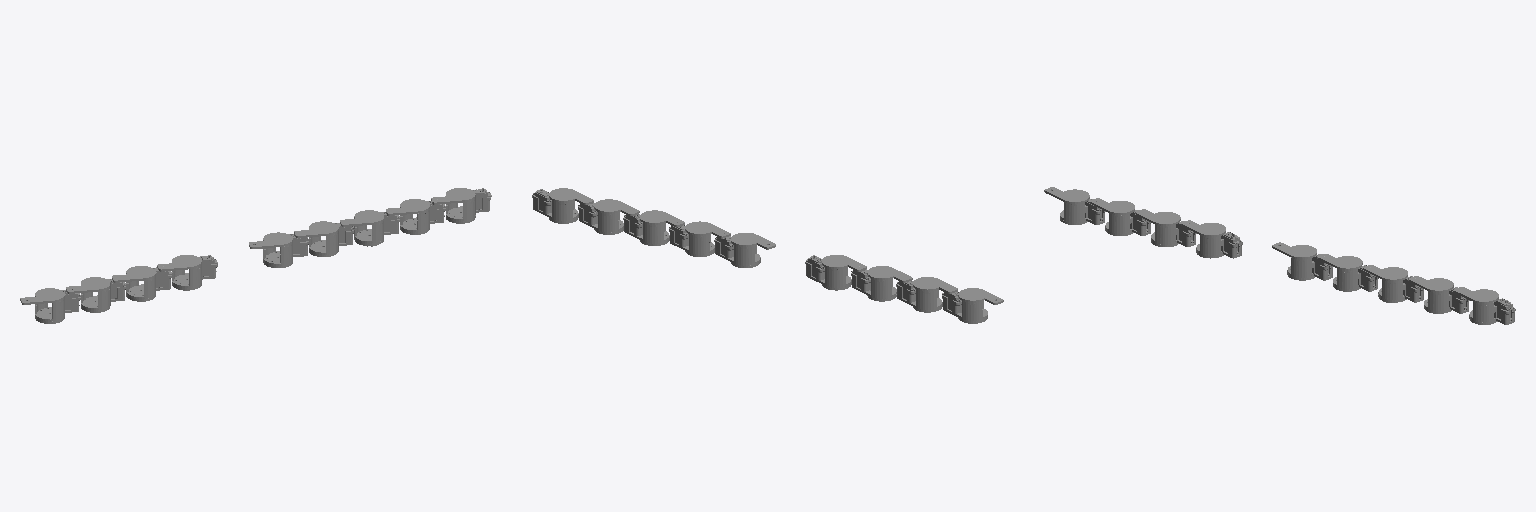
The robot description file, URDF, robot "cobra":
<?xml version="1.0" encoding="utf-8"?>
<!-- This URDF was automatically created by SolidWorks to URDF Exporter! Originally created by [author] ([email redacted]) 
     Commit Version: 1.6.0-4-g7f85cfe  Build Version: 1.6.7995.38578
     For more information, please see http://wiki.ros.org/sw_urdf_exporter -->
<!-- 
  Modificações foram feitas nessa descrição a fim de simular o robô no ambiente de simulação Gazebo
  Autor: [author]
  email: [email redacted]
-->
<robot
  name="cobra">
  <gazebo>
    <plugin name="gazebo_ros_control" filename="libgazebo_ros_control.so">
      <robotNamespace>/cobra</robotNamespace>
    </plugin>
  </gazebo>
  <link name = "dummy"/>
  <link
    name="modulo1">
    <inertial>
      <origin
        xyz="-0.19548 -0.0079371 -0.092787"
        rpy="0 0 0" />
      <mass
        value="0.062449" />
      <inertia
        ixx="4.2331E-05"
        ixy="8.2349E-07"
        ixz="-3.8461E-06"
        iyy="9.0357E-05"
        iyz="-9.8697E-08"
        izz="7.2959E-05" />
    </inertial>
    <visual>
      <origin
        xyz="0 0 0"
        rpy="0 0 0" />
      <geometry>
        <mesh
          filename="package://cobra/meshes/base_link.STL" />
      </geometry>
      <material
        name="">
        <color
          rgba="0.62745 0.62745 0.62745 1" />
      </material>
    </visual>
    <collision>
      <origin
        xyz="0 0 0"
        rpy="0 0 0" />
      <geometry>
        <mesh
          filename="package://cobra/meshes/base_link.STL" />
      </geometry>
    </collision>
  </link>
  <gazebo reference="modulo1">
    <mu1>0.1</mu1>
    <mu2>0.1</mu2>
    <fdir1>1 0 0</fdir1> 
  </gazebo>
  <joint name = "dummy_joint" type = "fixed">
    <parent link="dummy"/>
    <child link="modulo1"/>
  </joint>
  <link
    name="modulo2">
    <inertial>
      <origin
        xyz="0.073686 -0.029721 -0.0008313"
        rpy="0 0 0" />
      <mass
        value="0.062449" />
      <inertia
        ixx="4.2331E-05"
        ixy="8.2349E-07"
        ixz="-3.8461E-06"
        iyy="9.0357E-05"
        iyz="-9.8697E-08"
        izz="7.2959E-05" />
    </inertial>
    <visual>
      <origin
        xyz="0 0 0"
        rpy="0 0 0" />
      <geometry>
        <mesh
          filename="package://cobra/meshes/modulo2.STL" />
      </geometry>
      <material
        name="">
        <color
          rgba="0.62745 0.62745 0.62745 1" />
      </material>
    </visual>
    <collision>
      <origin
        xyz="0 0 0"
        rpy="0 0 0" />
      <geometry>
        <mesh
          filename="package://cobra/meshes/modulo2.STL" />
      </geometry>
    </collision>
  </link>
  <gazebo reference="modulo2">
    <mu1>0.1</mu1>
    <mu2>0.1</mu2>
    <fdir1>1 0 0</fdir1> 
  </gazebo>
  <joint
    name="joint1"
    type="revolute">
    <origin
      xyz="-0.15473 0.091996 0.021784"
      rpy="1.5708 0 0" />
    <parent
      link="modulo1" />
    <child
      link="modulo2" />
    <axis
      xyz="0 1 0" />
    <limit
      lower="-2.0"
      upper="2.0"
      effort="10.0"
      velocity="0.5" />
    <physics>
      <ode cfm_damping = "true">
        <limit cfm = "1.0"/>
        <suspension cfm="1.0"/>
      </ode>
    </physics>
  </joint>
  <transmission name="trans1">
    <type>transmission_interface/SimpleTransmission</type>
    <joint name="joint1">
      <hardwareInterface>hardware_interface/EffortJointInterface</hardwareInterface>
    </joint>
    <actuator name="motor1">
      <hardwareInterface>hardware_interface/EffortJointInterface</hardwareInterface>
      <mechanicalReduction>1</mechanicalReduction>
    </actuator>
  </transmission>
  <link
    name="modulo3">
    <inertial>
      <origin
        xyz="0.073686 -0.029721 -0.0008313"
        rpy="0 0 0" />
      <mass
        value="0.062449" />
      <inertia
        ixx="4.2331E-05"
        ixy="8.2349E-07"
        ixz="-3.8461E-06"
        iyy="9.0357E-05"
        iyz="-9.8697E-08"
        izz="7.2959E-05" />
    </inertial>
    <visual>
      <origin
        xyz="0 0 0"
        rpy="0 0 0" />
      <geometry>
        <mesh
          filename="package://cobra/meshes/modulo3.STL" />
      </geometry>
      <material
        name="">
        <color
          rgba="0.62745 0.62745 0.62745 1" />
      </material>
    </visual>
    <collision>
      <origin
        xyz="0 0 0"
        rpy="0 0 0" />
      <geometry>
        <mesh
          filename="package://cobra/meshes/modulo3.STL" />
      </geometry>
    </collision>
  </link>
  <gazebo reference="modulo3">
    <mu1>0.1</mu1>
    <mu2>0.1</mu2>
    <fdir1>1 0 0</fdir1> 
  </gazebo>
  <joint
    name="joint2"
    type="revolute">
    <origin
      xyz="0.11444 0 -4.0212E-05"
      rpy="0 0 0" />
    <parent
      link="modulo2" />
    <child
      link="modulo3" />
    <axis
      xyz="0 1 0" />
    <limit
      lower="-2.0"
      upper="2.0"
      effort="100000000000.0"
      velocity="6.28" />
    <physics>
      <ode cfm_damping = "true">
        <limit cfm = "1.0"/>
        <suspension cfm="1.0"/>
      </ode>
    </physics>
  </joint>
  <transmission name="trans2">
    <type>transmission_interface/SimpleTransmission</type>
    <joint name="joint2">
      <hardwareInterface>hardware_interface/EffortJointInterface</hardwareInterface>
    </joint>
    <actuator name="motor2">
      <hardwareInterface>hardware_interface/EffortJointInterface</hardwareInterface>
      <mechanicalReduction>1</mechanicalReduction>
    </actuator>
  </transmission>
  <link
    name="modulo4">
    <inertial>
      <origin
        xyz="0.0736864302969557 -0.0297211972454861 -0.000831298567806088"
        rpy="0 0 0" />
      <mass
        value="0.0624486089384005" />
      <inertia
        ixx="4.23306741017875E-05"
        ixy="8.23488383173284E-07"
        ixz="-3.84610240874935E-06"
        iyy="9.03567329613313E-05"
        iyz="-9.86970187562682E-08"
        izz="7.29593550442413E-05" />
    </inertial>
    <visual>
      <origin
        xyz="0 0 0"
        rpy="0 0 0" />
      <geometry>
        <mesh
          filename="package://cobra/meshes/modulo4.STL" />
      </geometry>
      <material
        name="">
        <color
          rgba="0.627450980392157 0.627450980392157 0.627450980392157 1" />
      </material>
    </visual>
    <collision>
      <origin
        xyz="0 0 0"
        rpy="0 0 0" />
      <geometry>
        <mesh
          filename="package://cobra/meshes/modulo4.STL" />
      </geometry>
    </collision>
  </link>
  <gazebo reference="modulo4">
    <mu1>0.1</mu1>
    <mu2>0.1</mu2>
    <fdir1>1 0 0</fdir1> 
  </gazebo>
  <joint
    name="joint3"
    type="revolute">
    <origin
      xyz="0.11444 0 -4.0212E-05"
      rpy="0 0 0" />
    <parent
      link="modulo3" />
    <child
      link="modulo4" />
    <axis
      xyz="0 1 0" />
    <limit
      lower="-2.0"
      upper="2.0"
      effort="100000000000.0"
      velocity="6.28" />
    <physics>
      <ode cfm_damping = "true">
        <limit cfm = "1.0"/>
        <suspension cfm="1.0"/>
      </ode>
    </physics>
  </joint>
  <transmission name="trans3">
    <type>transmission_interface/SimpleTransmission</type>
    <joint name="joint3">
      <hardwareInterface>hardware_interface/EffortJointInterface</hardwareInterface>
    </joint>
    <actuator name="motor3">
      <hardwareInterface>hardware_interface/EffortJointInterface</hardwareInterface>
      <mechanicalReduction>1</mechanicalReduction>
    </actuator>
  </transmission>
  <link
    name="modulo5">
    <inertial>
      <origin
        xyz="0.0736864302969558 -0.0297211972454855 -0.000831298567805991"
        rpy="0 0 0" />
      <mass
        value="0.0624486089384005" />
      <inertia
        ixx="4.23306741017875E-05"
        ixy="8.23488383173303E-07"
        ixz="-3.84610240874932E-06"
        iyy="9.03567329613312E-05"
        iyz="-9.86970187568371E-08"
        izz="7.2959355044241E-05" />
    </inertial>
    <visual>
      <origin
        xyz="0 0 0"
        rpy="0 0 0" />
      <geometry>
        <mesh
          filename="package://cobra/meshes/modulo5.STL" />
      </geometry>
      <material
        name="">
        <color
          rgba="0.627450980392157 0.627450980392157 0.627450980392157 1" />
      </material>
    </visual>
    <collision>
      <origin
        xyz="0 0 0"
        rpy="0 0 0" />
      <geometry>
        <mesh
          filename="package://cobra/meshes/modulo5.STL" />
      </geometry>
    </collision>
  </link>
  <gazebo reference="modulo5">
    <mu1>0.1</mu1>
    <mu2>0.1</mu2>
    <fdir1>1 0 0</fdir1> 
  </gazebo>
  <joint
    name="joint4"
    type="revolute">
    <origin
      xyz="0.11444 0 -4.0212E-05"
      rpy="0 0 0" />
    <parent
      link="modulo4" />
    <child
      link="modulo5" />
    <axis
      xyz="0 1 0" />
    <limit
      lower="-2.0"
      upper="2.0"
      effort="100000000000.0"
      velocity="6.28" />
    <physics>
      <ode cfm_damping = "true">
        <limit cfm = "1.0"/>
        <suspension cfm="1.0"/>
      </ode>
    </physics>
  </joint>
  <transmission name="trans4">
    <type>transmission_interface/SimpleTransmission</type>
    <joint name="joint4">
      <hardwareInterface>hardware_interface/EffortJointInterface</hardwareInterface>
    </joint>
    <actuator name="motor4">
      <hardwareInterface>hardware_interface/EffortJointInterface</hardwareInterface>
      <mechanicalReduction>1</mechanicalReduction>
    </actuator>
  </transmission>
  <link
    name="modulo6">
    <inertial>
      <origin
        xyz="0.073686 -0.029721 -0.0008313"
        rpy="0 0 0" />
      <mass
        value="0.062449" />
      <inertia
        ixx="4.2331E-05"
        ixy="8.2349E-07"
        ixz="-3.8461E-06"
        iyy="9.0357E-05"
        iyz="-9.8697E-08"
        izz="7.2959E-05" />
    </inertial>
    <visual>
      <origin
        xyz="0 0 0"
        rpy="0 0 0" />
      <geometry>
        <mesh
          filename="package://cobra/meshes/modulo6.STL" />
      </geometry>
      <material
        name="">
        <color
          rgba="0.62745 0.62745 0.62745 1" />
      </material>
    </visual>
    <collision>
      <origin
        xyz="0 0 0"
        rpy="0 0 0" />
      <geometry>
        <mesh
          filename="package://cobra/meshes/modulo6.STL" />
      </geometry>
    </collision>
  </link>
  <gazebo reference="modulo6">
    <mu1>0.1</mu1>
    <mu2>0.1</mu2>
    <fdir1>1 0 0</fdir1> 
  </gazebo>
  <joint
    name="joint5"
    type="revolute">
    <origin
      xyz="0.11444 0 -4.0212E-05"
      rpy="0 0 0" />
    <parent
      link="modulo5" />
    <child
      link="modulo6" />
    <axis
      xyz="0 1 0" />
    <limit
      lower="-2.0"
      upper="2.0"
      effort="100000000000.0"
      velocity="6.28" />
    <physics>
      <ode cfm_damping = "true">
        <limit cfm = "1.0"/>
        <suspension cfm="1.0"/>
      </ode>
    </physics>
  </joint>
  <transmission name="trans5">
    <type>transmission_interface/SimpleTransmission</type>
    <joint name="joint5">
      <hardwareInterface>hardware_interface/EffortJointInterface</hardwareInterface>
    </joint>
    <actuator name="motor5">
      <hardwareInterface>hardware_interface/EffortJointInterface</hardwareInterface>
      <mechanicalReduction>1</mechanicalReduction>
    </actuator>
  </transmission>
  <link
    name="modulo7">
    <inertial>
      <origin
        xyz="0.0736864303147165 -0.0297211972561647 -0.000831298559470214"
        rpy="0 0 0" />
      <mass
        value="0.0624486089464186" />
      <inertia
        ixx="4.23306741091947E-05"
        ixy="8.23488390584288E-07"
        ixz="-3.84610242802216E-06"
        iyy="9.03567330041933E-05"
        iyz="-9.86970132555384E-08"
        izz="7.29593550761642E-05" />
    </inertial>
    <visual>
      <origin
        xyz="0 0 0"
        rpy="0 0 0" />
      <geometry>
        <mesh
          filename="package://cobra/meshes/modulo7.STL" />
      </geometry>
      <material
        name="">
        <color
          rgba="0.627450980392157 0.627450980392157 0.627450980392157 1" />
      </material>
    </visual>
    <collision>
      <origin
        xyz="0 0 0"
        rpy="0 0 0" />
      <geometry>
        <mesh
          filename="package://cobra/meshes/modulo7.STL" />
      </geometry>
    </collision>
  </link>
  <gazebo reference="modulo7">
    <mu1>0.1</mu1>
    <mu2>0.1</mu2>
    <fdir1>1 0 0</fdir1> 
  </gazebo>
  <joint
    name="joint6"
    type="revolute">
    <origin
      xyz="0.11444 0 -4.0212E-05"
      rpy="0 0 0" />
    <parent
      link="modulo6" />
    <child
      link="modulo7" />
    <axis
      xyz="0 1 0" />
    <limit
      lower="-2.0"
      upper="2.0"
      effort="100000000000.0"
      velocity="6.28" />
    <physics>
      <ode cfm_damping = "true">
        <limit cfm = "1.0"/>
        <suspension cfm="1.0"/>
      </ode>
    </physics>
  </joint>
  <transmission name="trans6">
    <type>transmission_interface/SimpleTransmission</type>
    <joint name="joint6">
      <hardwareInterface>hardware_interface/EffortJointInterface</hardwareInterface>
    </joint>
    <actuator name="motor6">
      <hardwareInterface>hardware_interface/EffortJointInterface</hardwareInterface>
      <mechanicalReduction>1</mechanicalReduction>
    </actuator>
  </transmission>
  <link
    name="modulo8">
    <inertial>
      <origin
        xyz="0.073686430296956 -0.0297211972454852 -0.000831298567805852"
        rpy="0 0 0" />
      <mass
        value="0.0624486089384004" />
      <inertia
        ixx="4.23306741017869E-05"
        ixy="8.23488383172666E-07"
        ixz="-3.84610240874893E-06"
        iyy="9.03567329613307E-05"
        iyz="-9.86970187562574E-08"
        izz="7.29593550442411E-05" />
    </inertial>
    <visual>
      <origin
        xyz="0 0 0"
        rpy="0 0 0" />
      <geometry>
        <mesh
          filename="package://cobra/meshes/modulo8.STL" />
      </geometry>
      <material
        name="">
        <color
          rgba="0.627450980392157 0.627450980392157 0.627450980392157 1" />
      </material>
    </visual>
    <collision>
      <origin
        xyz="0 0 0"
        rpy="0 0 0" />
      <geometry>
        <mesh
          filename="package://cobra/meshes/modulo8.STL" />
      </geometry>
    </collision>
  </link>
  <gazebo reference="modulo8">
    <mu1>0.1</mu1>
    <mu2>0.1</mu2>
    <fdir1>1 0 0</fdir1> 
  </gazebo>
  <joint
    name="joint7"
    type="revolute">
    <origin
      xyz="0.11444 0 -4.0212E-05"
      rpy="0 0 0" />
    <parent
      link="modulo7" />
    <child
      link="modulo8" />
    <axis
      xyz="0 1 0" />
    <limit
      lower="-2.0"
      upper="2.0"
      effort="100000000000.0"
      velocity="6.28" />
    <physics>
      <ode cfm_damping = "true">
        <limit cfm = "1.0"/>
        <suspension cfm="1.0"/>
      </ode>
    </physics>
  </joint>
  <transmission name="trans7">
    <type>transmission_interface/SimpleTransmission</type>
    <joint name="joint7">
      <hardwareInterface>hardware_interface/EffortJointInterface</hardwareInterface>
    </joint>
    <actuator name="motor7">
      <hardwareInterface>hardware_interface/EffortJointInterface</hardwareInterface>
      <mechanicalReduction>1</mechanicalReduction>
    </actuator>
  </transmission>
  <link
    name="modulo9">
    <inertial>
      <origin
        xyz="0.073686 -0.029721 -0.0008313"
        rpy="0 0 0" />
      <mass
        value="0.062449" />
      <inertia
        ixx="4.2331E-05"
        ixy="8.2349E-07"
        ixz="-3.8461E-06"
        iyy="9.0357E-05"
        iyz="-9.8697E-08"
        izz="7.2959E-05" />
    </inertial>
    <visual>
      <origin
        xyz="0 0 0"
        rpy="0 0 0" />
      <geometry>
        <mesh
          filename="package://cobra/meshes/modulo9.STL" />
      </geometry>
      <material
        name="">
        <color
          rgba="0.62745 0.62745 0.62745 1" />
      </material>
    </visual>
    <collision>
      <origin
        xyz="0 0 0"
        rpy="0 0 0" />
      <geometry>
        <mesh
          filename="package://cobra/meshes/modulo9.STL" />
      </geometry>
    </collision>
  </link>
  <gazebo reference="modulo9">
    <mu1>0.1</mu1>
    <mu2>0.1</mu2>
    <fdir1>1 0 0</fdir1> 
  </gazebo>
  <joint
    name="joint8"
    type="revolute">
    <origin
      xyz="0.11444 0 -4.0212E-05"
      rpy="0 0 0" />
    <parent
      link="modulo8" />
    <child
      link="modulo9" />
    <axis
      xyz="0 1 0" />
    <limit
      lower="-2.0"
      upper="2.0"
      effort="100000000000.0"
      velocity="6.28" />
    <physics>
      <ode cfm_damping = "true">
        <limit cfm = "1.0"/>
        <suspension cfm="1.0"/>
      </ode>
    </physics>
  </joint>
  <transmission name="trans8">
    <type>transmission_interface/SimpleTransmission</type>
    <joint name="joint8">
      <hardwareInterface>hardware_interface/EffortJointInterface</hardwareInterface>
    </joint>
    <actuator name="motor8">
      <hardwareInterface>hardware_interface/EffortJointInterface</hardwareInterface>
      <mechanicalReduction>1</mechanicalReduction>
    </actuator>
  </transmission>
  <link
    name="modulo10">
    <inertial>
      <origin
        xyz="0.073686 -0.029721 -0.0008313"
        rpy="0 0 0" />
      <mass
        value="0.062449" />
      <inertia
        ixx="4.2331E-05"
        ixy="8.2349E-07"
        ixz="-3.8461E-06"
        iyy="9.0357E-05"
        iyz="-9.8697E-08"
        izz="7.2959E-05" />
    </inertial>
    <visual>
      <origin
        xyz="0 0 0"
        rpy="0 0 0" />
      <geometry>
        <mesh
          filename="package://cobra/meshes/modulo10.STL" />
      </geometry>
      <material
        name="">
        <color
          rgba="0.62745 0.62745 0.62745 1" />
      </material>
    </visual>
    <collision>
      <origin
        xyz="0 0 0"
        rpy="0 0 0" />
      <geometry>
        <mesh
          filename="package://cobra/meshes/modulo10.STL" />
      </geometry>
    </collision>
  </link>
  <gazebo reference="modulo10">
    <mu1>0.1</mu1>
    <mu2>0.1</mu2>
    <fdir1>1 0 0</fdir1> 
  </gazebo>
  <joint
    name="joint9"
    type="revolute">
    <origin
      xyz="0.11444 0 -4.0212E-05"
      rpy="0 0 0" />
    <parent
      link="modulo9" />
    <child
      link="modulo10" />
    <axis
      xyz="0 1 0" />
    <limit
      lower="-2.0"
      upper="2.0"
      effort="100000000000.0"
      velocity="6.28" />
    <physics>
      <ode cfm_damping = "true">
        <limit cfm = "1.0"/>
        <suspension cfm="1.0"/>
      </ode>
    </physics>
  </joint>
  <transmission name="trans9">
    <type>transmission_interface/SimpleTransmission</type>
    <joint name="joint9">
      <hardwareInterface>hardware_interface/EffortJointInterface</hardwareInterface>
    </joint>
    <actuator name="motor9">
      <hardwareInterface>hardware_interface/EffortJointInterface</hardwareInterface>
      <mechanicalReduction>1</mechanicalReduction>
    </actuator>
  </transmission>
</robot>

--- What the picture shows (computed from the rendered views, not written in the file) ---
The picture shows the robot from 3 angles, left to right: view 1: azimuth 30°, elevation 25°; view 2: azimuth 150°, elevation 25°; view 3: azimuth 330°, elevation 25°; orthographic projection.
Robot: cobra — 11 links, 10 joints (9 revolute, 1 fixed); root link dummy; default pose: every joint at zero.
Visible links, largest first — view 1: modulo4, modulo10, modulo6, modulo3, modulo8, modulo1, modulo9, modulo7, modulo2; view 2: modulo4, modulo10, modulo2, modulo6, modulo8, modulo1, modulo9, modulo3, modulo7; view 3: modulo10, modulo4, modulo6, modulo7, modulo8, modulo9, modulo1, modulo3, modulo2.
Link boxes in pixels (bbox=[...]): modulo4: bbox=[157, 255, 217, 290]; modulo10: bbox=[431, 188, 491, 223]; modulo6: bbox=[249, 232, 308, 267]; modulo3: bbox=[112, 266, 171, 301]; modulo8: bbox=[340, 210, 399, 246]; modulo1: bbox=[20, 288, 80, 323]; modulo9: bbox=[386, 199, 445, 234]; modulo7: bbox=[294, 221, 354, 256]; modulo2: bbox=[66, 277, 125, 312]; modulo4: bbox=[805, 255, 866, 290]; modulo10: bbox=[532, 188, 593, 223]; modulo2: bbox=[896, 277, 957, 312]; modulo6: bbox=[714, 233, 775, 267]; modulo8: bbox=[623, 210, 684, 245]; modulo1: bbox=[942, 288, 1003, 323]; modulo9: bbox=[578, 199, 639, 234]; modulo3: bbox=[851, 266, 912, 301]; modulo7: bbox=[669, 221, 730, 256]; modulo10: bbox=[1454, 287, 1515, 324]; modulo4: bbox=[1181, 220, 1242, 258]; modulo6: bbox=[1272, 242, 1332, 280]; modulo7: bbox=[1317, 254, 1378, 291]; modulo8: bbox=[1363, 265, 1423, 302]; modulo9: bbox=[1408, 276, 1469, 313]; modulo1: bbox=[1044, 187, 1105, 224]; modulo3: bbox=[1135, 209, 1196, 246]; modulo2: bbox=[1090, 198, 1150, 235].
Size in the robot's own frame: 1.18 by 0.0654 by 0.0589 metres.
Meshes: 10 distinct files referenced, 9 mesh visuals loaded (9 binary STL); not drawn: 1 (reference not matched to a file when rendering).
